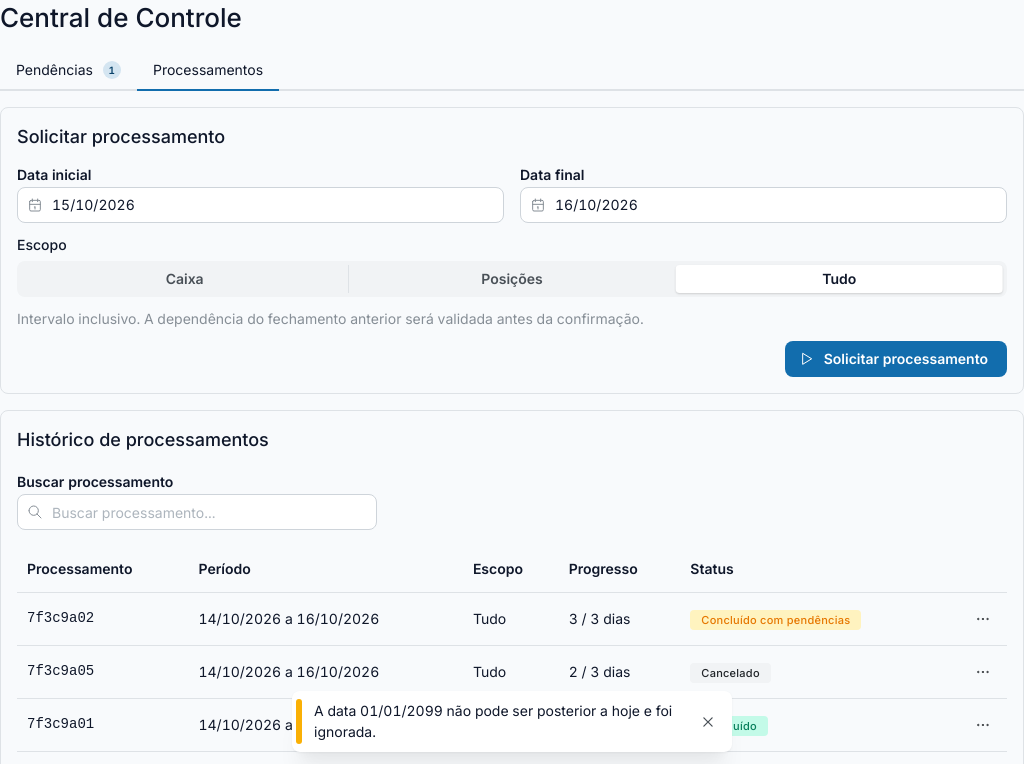
Test: Processamentos: request (§11.1, OQ-20) › OQ-11 OQ-26 previews a range after a current day with that day's status
What coordinates should you click on to do the following:
click the button "Solicitar processamento"
I would click on:
 (896, 359)
Its box is [785,341,1007,377].
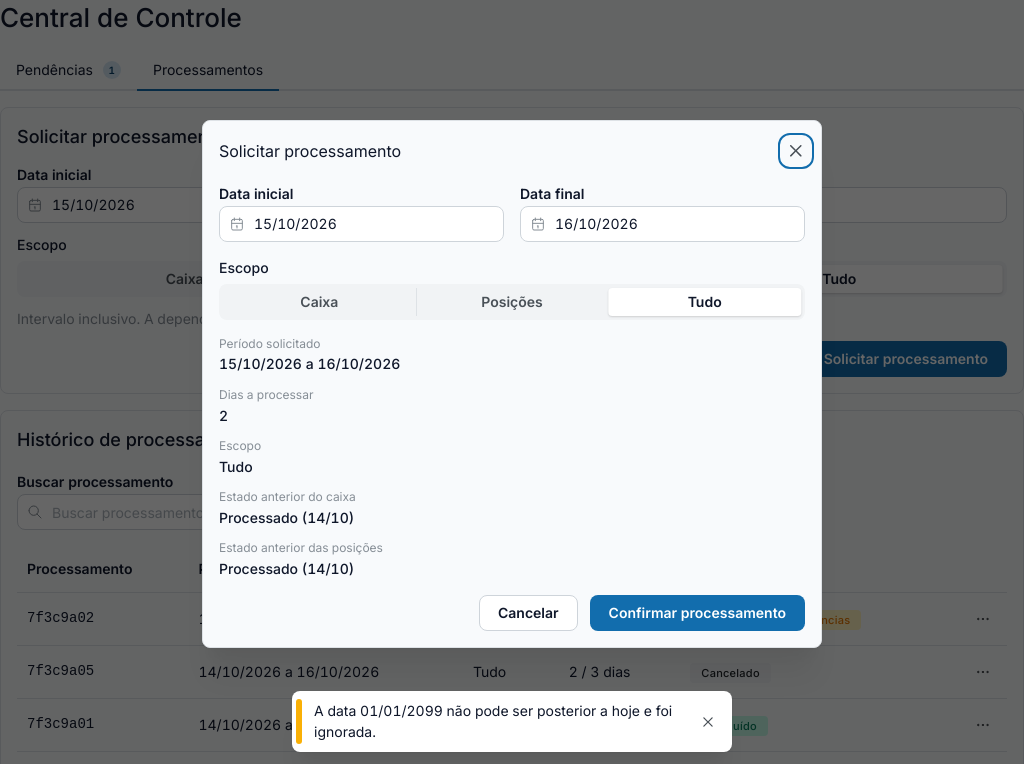
Now the text "15/10/2026 a 16/10/2026" is shown, box [219,356,400,372]
Now the text "Processado (14/10)" below "Estado anterior do caixa" is shown, box [219,509,354,526]
Now the text "Processado (14/10)" below "Estado anterior das posições" is shown, box [219,560,354,577]
